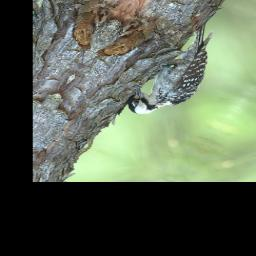Woodpecker: (121, 19, 242, 127)
